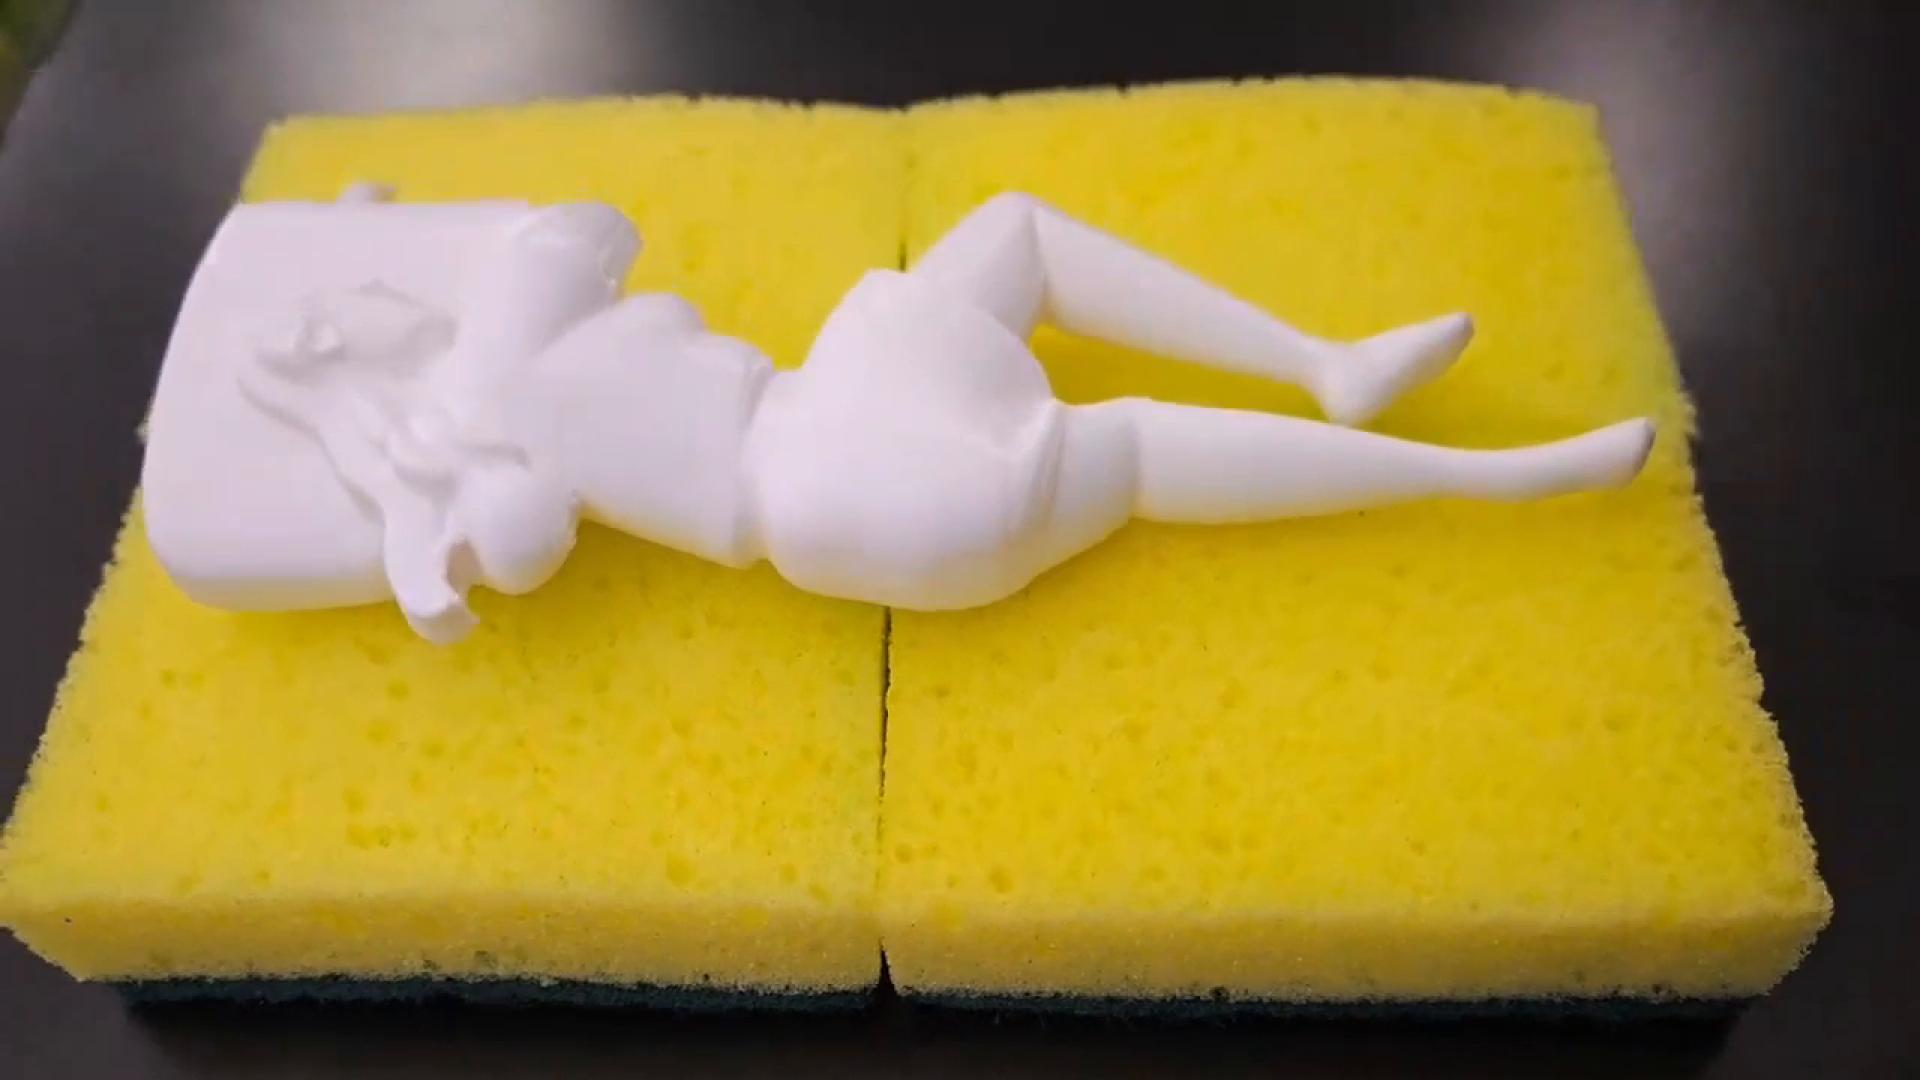Good-style: (140, 175, 1655, 640)
